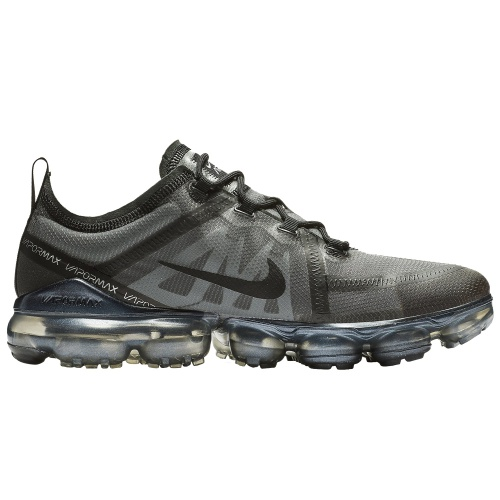nike: (153, 245, 296, 305)
